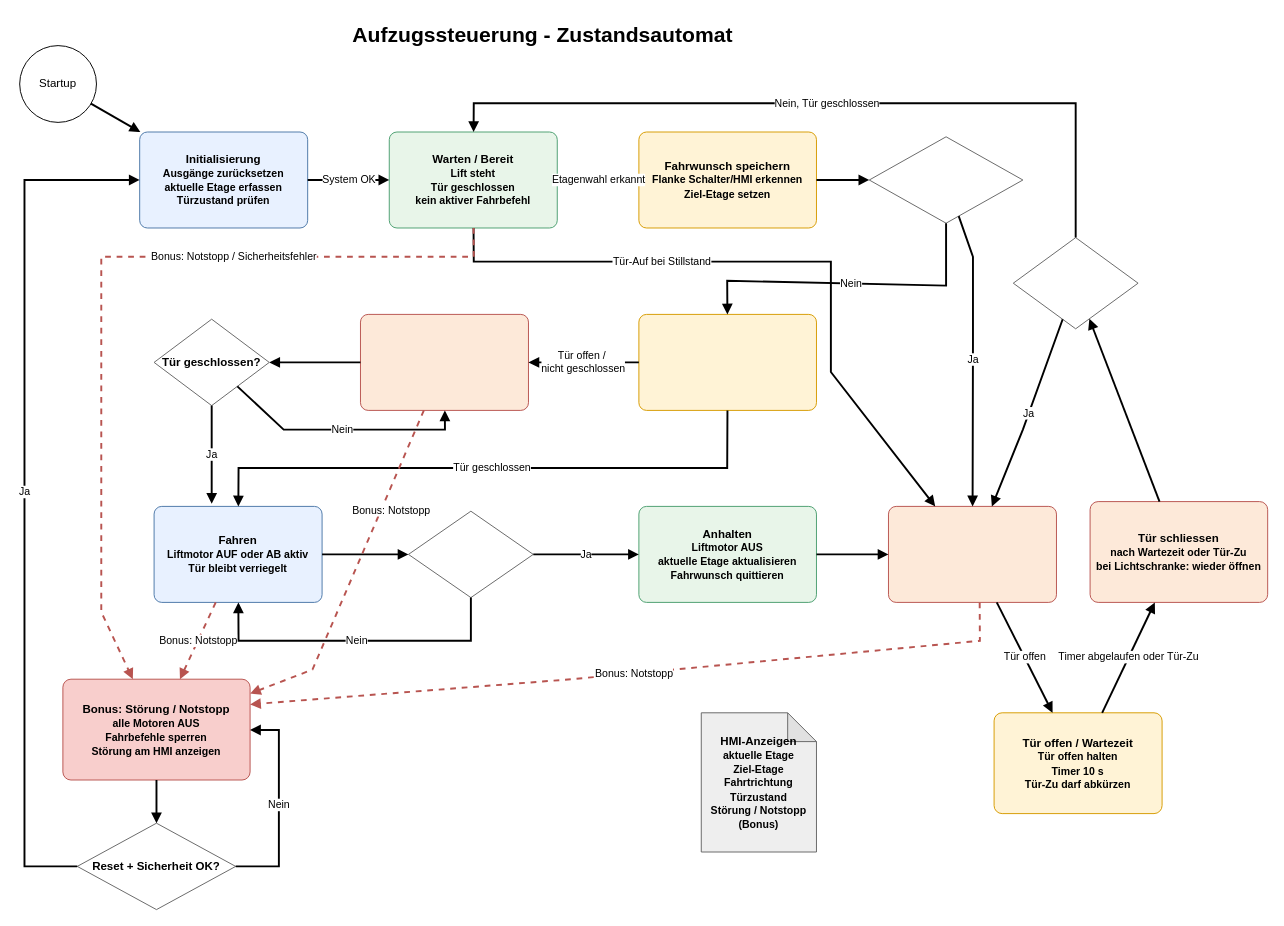
The diagram is 1284 pixels wide and 926 high, and some of its shapes have lost their labels. Each missing label, with the centre of its shape:
"Fahrtrichtung bestimmen Ziel > Ist: aufwärts Ziel < Ist: abwärts" belongs at (727,361).
"Tür schliessen Türmotor ZU aktiv Liftmotor gesperrt" belongs at (444,361).
"Tür öffnen Türmotor AUF aktiv" belongs at (972,553).
"Tür-Auf / Lichtschranke?" belongs at (1075,283).
"Ziel = aktuelle Etage?" belongs at (945,179).
"Ziel-Etage erreicht?" belongs at (470,554).
